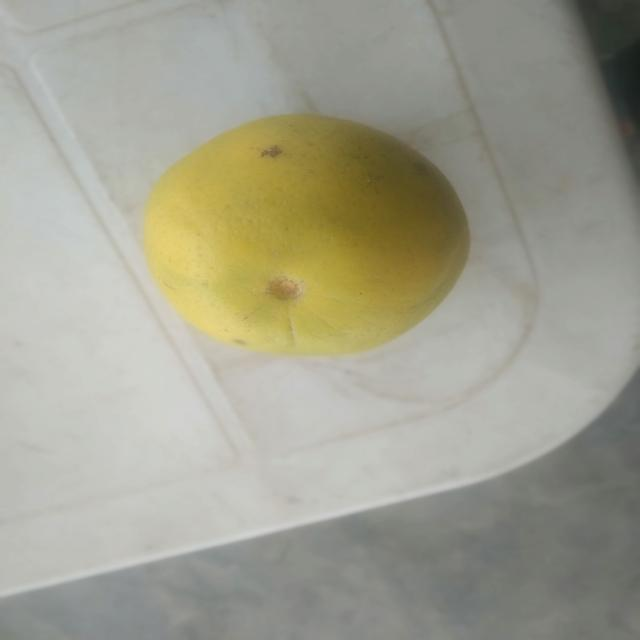Ripe orange: (131, 108, 486, 370)
